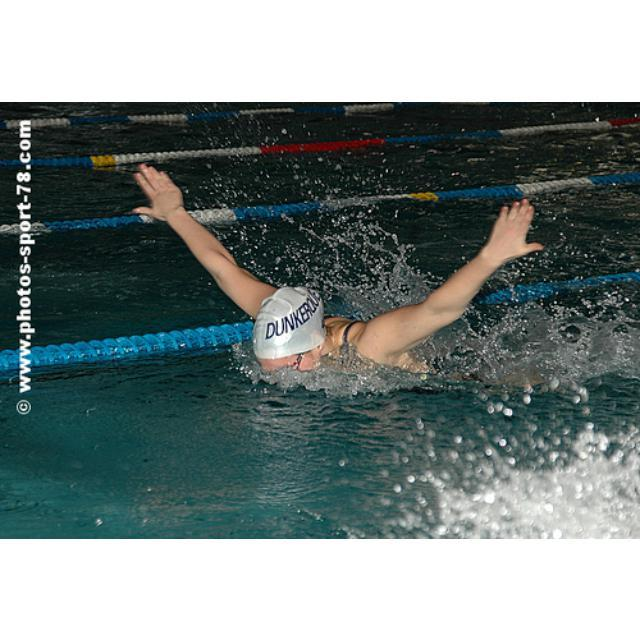human: (134, 153, 537, 400)
